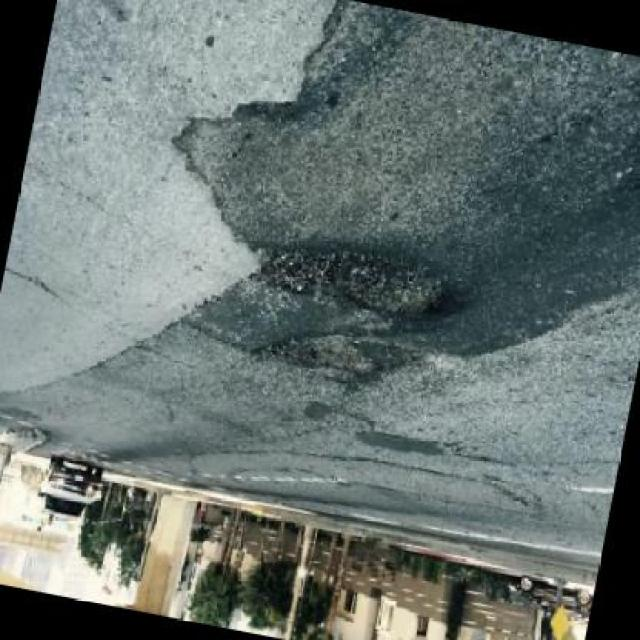pothole: (243, 223, 457, 332), (242, 317, 383, 389)
